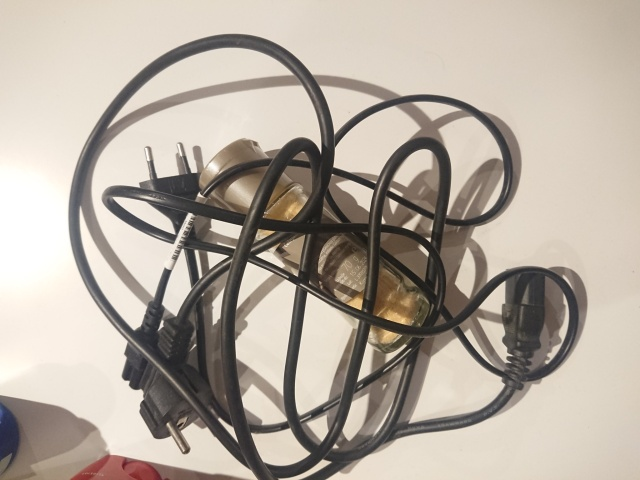Kotanyi Garlic Granules 70g: (196, 136, 436, 356)
